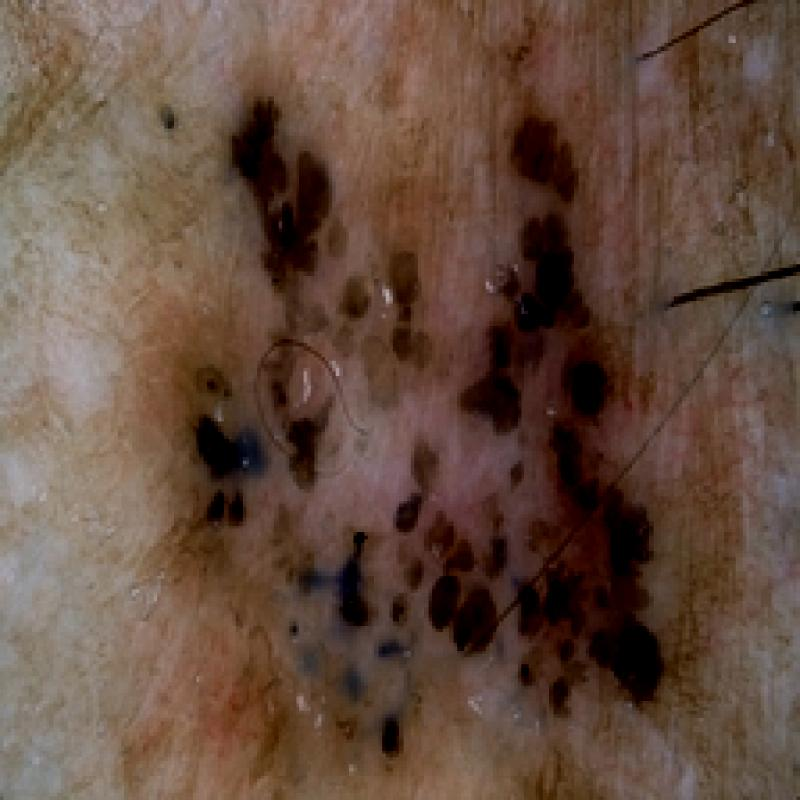malignant: (150, 90, 668, 766)
